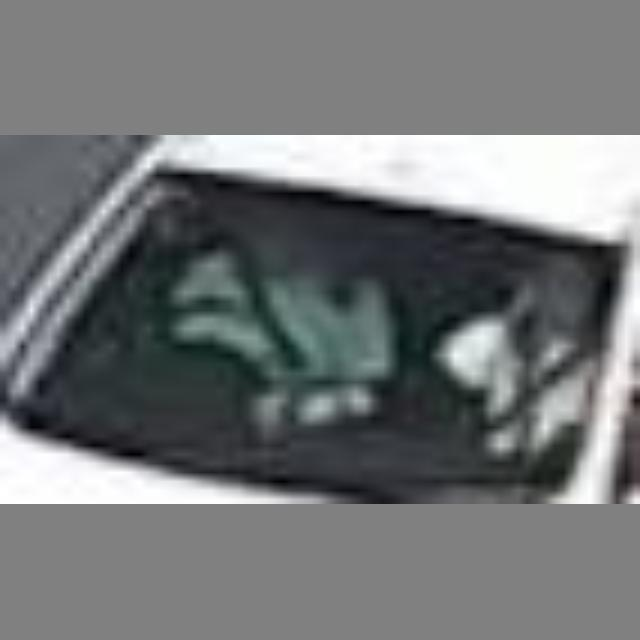pakai: (171, 216, 388, 432), (433, 270, 595, 441)
